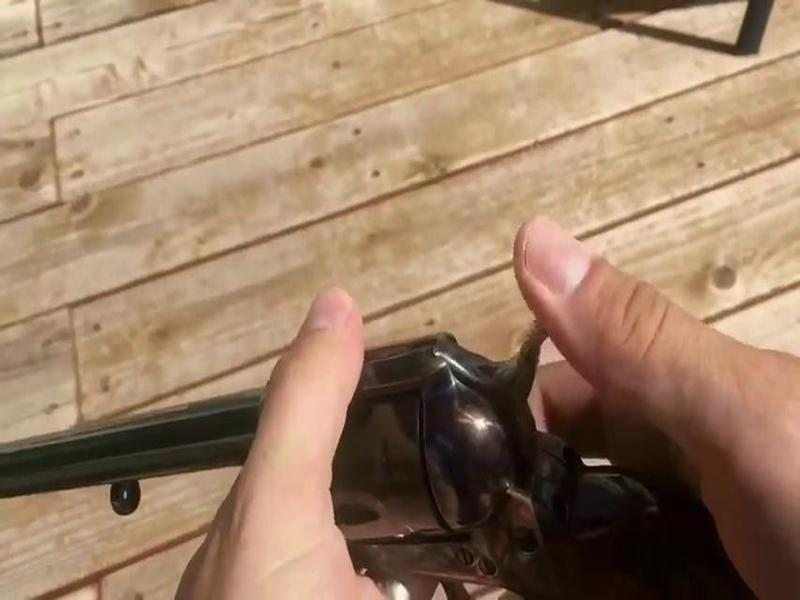Revolver: (20, 336, 751, 600)
